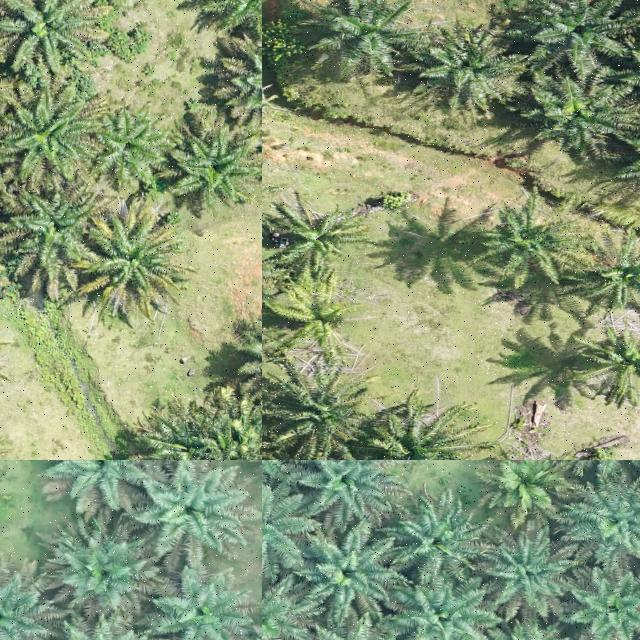Ganoderma: (280, 292, 358, 346), (501, 462, 550, 504)
